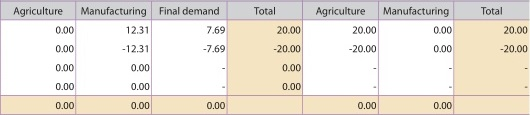column: (80, 1, 150, 115), (383, 1, 452, 115), (159, 1, 225, 115), (14, 1, 74, 115), (316, 1, 376, 115), (255, 1, 302, 115), (481, 1, 528, 114)
row: (1, 6, 529, 17), (1, 81, 530, 91), (1, 25, 530, 34), (1, 44, 530, 53), (1, 63, 530, 72), (1, 101, 528, 109)
